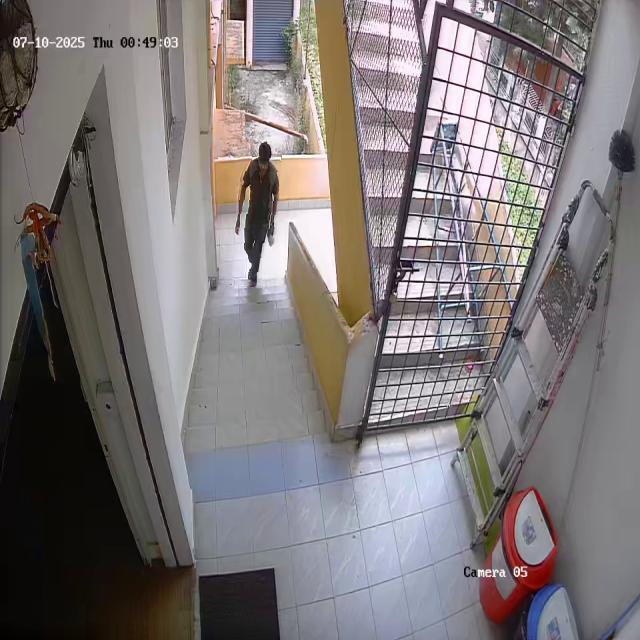person: (234, 140, 279, 288)
